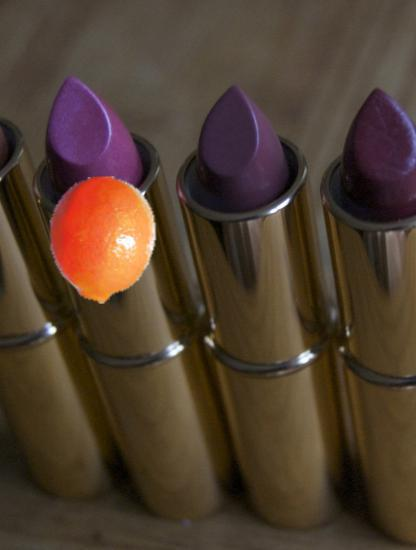Tangelo: (40, 177, 167, 304)
